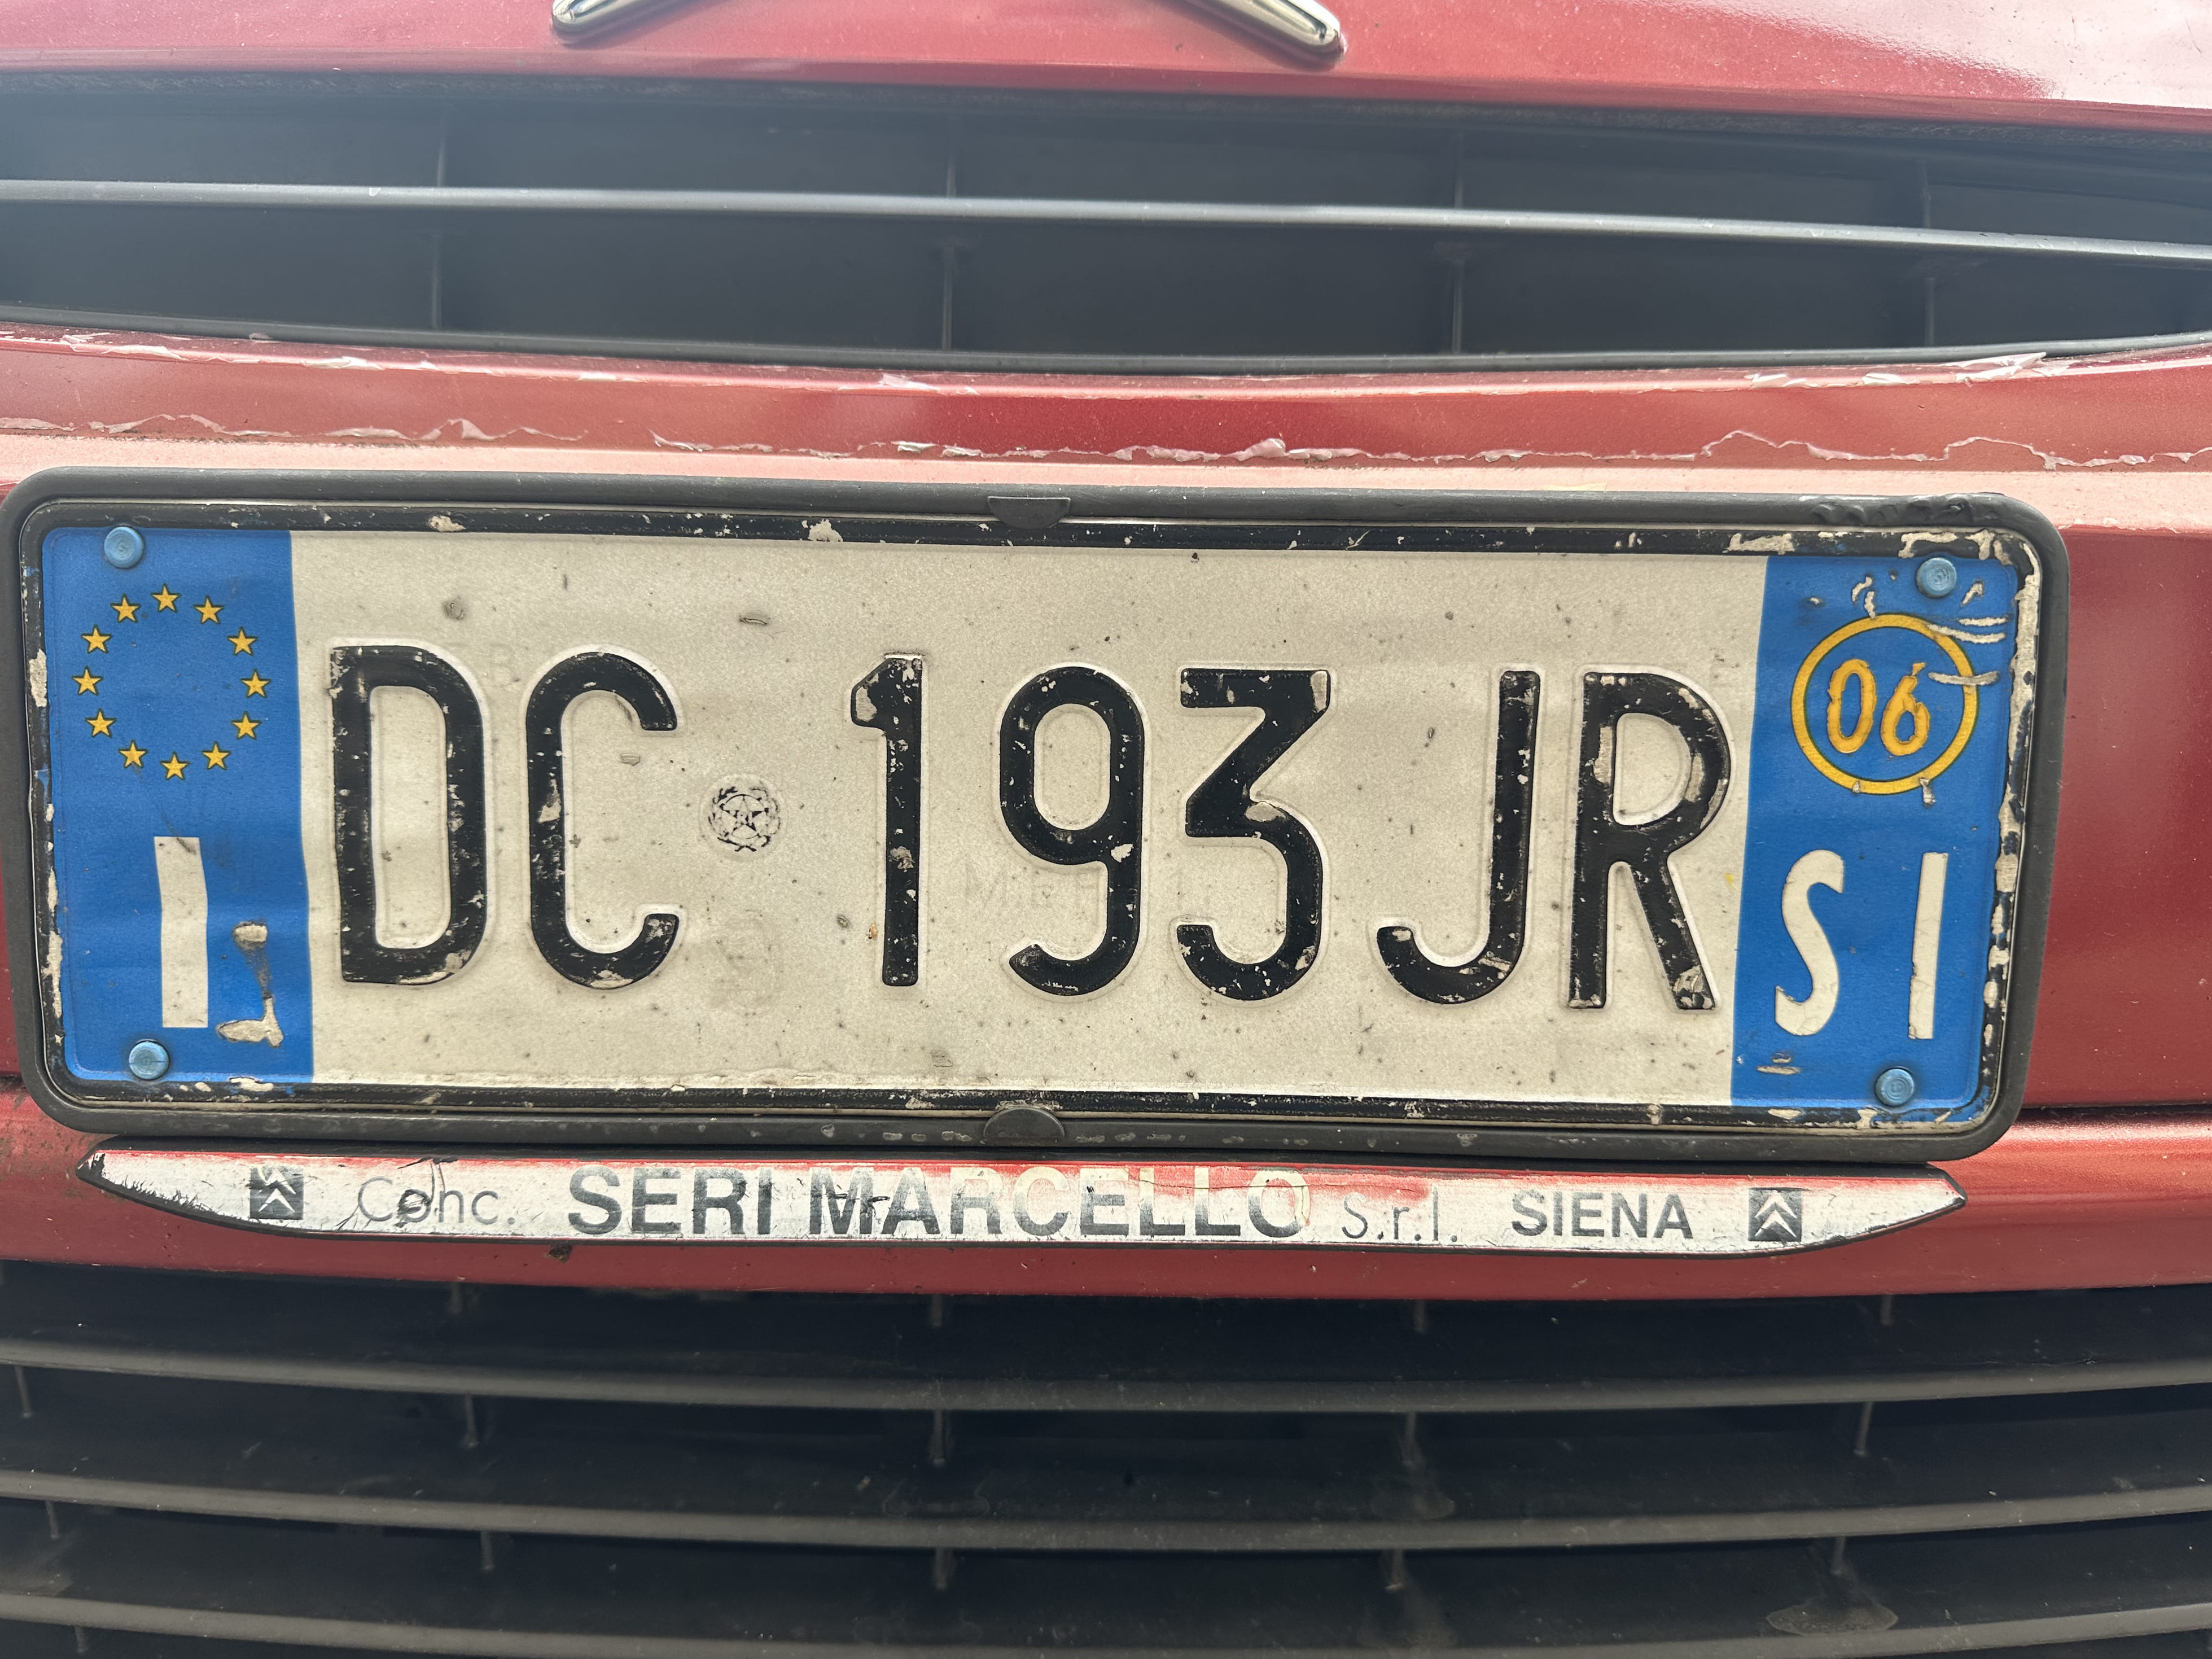license-plate: (20, 496, 2047, 1137)
